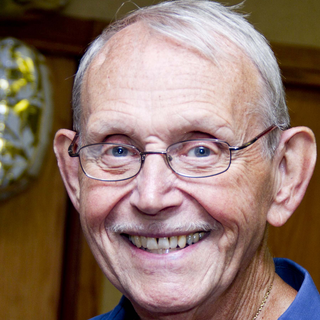eye: (177, 141, 224, 163), (100, 142, 139, 162)
